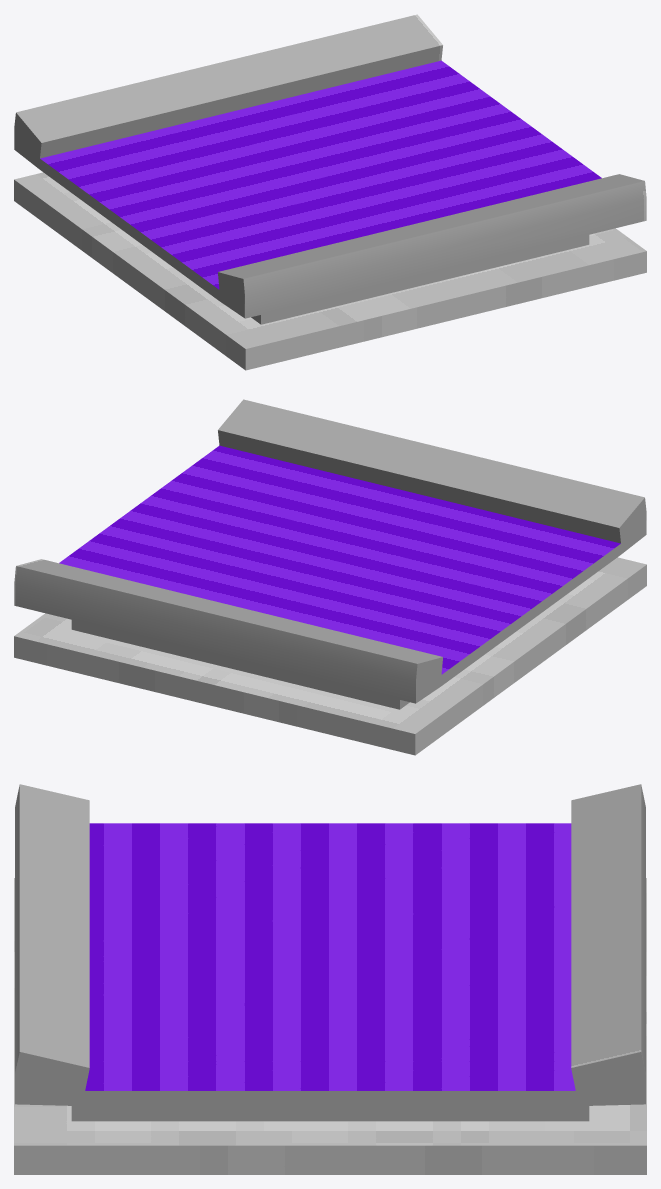
The model's file is solar_panel_lumum.obj.
The picture shows the model from 3 angles, top to bottom: view 1: azimuth 30°, elevation 25°; view 2: azimuth 150°, elevation 25°; view 3: azimuth 270°, elevation 25°; orthographic projection. The views are drawn at different scales.
Parts seen in each view (by area): view 1: solarPanel; view 2: solarPanel; view 3: solarPanel.
Boxes of the visible parts, x1,y1,x2,y2 form: solarPanel: (14, 14, 646, 370); solarPanel: (14, 399, 646, 755); solarPanel: (14, 784, 646, 1174).
Size of the model in its own units: 1 by 0.2146 by 1.
